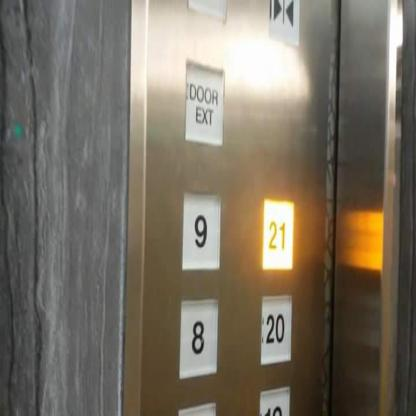20: (258, 291, 292, 368)
21: (260, 197, 295, 274)
8: (178, 296, 218, 380)
9: (179, 187, 222, 273)
close: (266, 0, 299, 49)
text_door ext: (182, 53, 226, 148)
